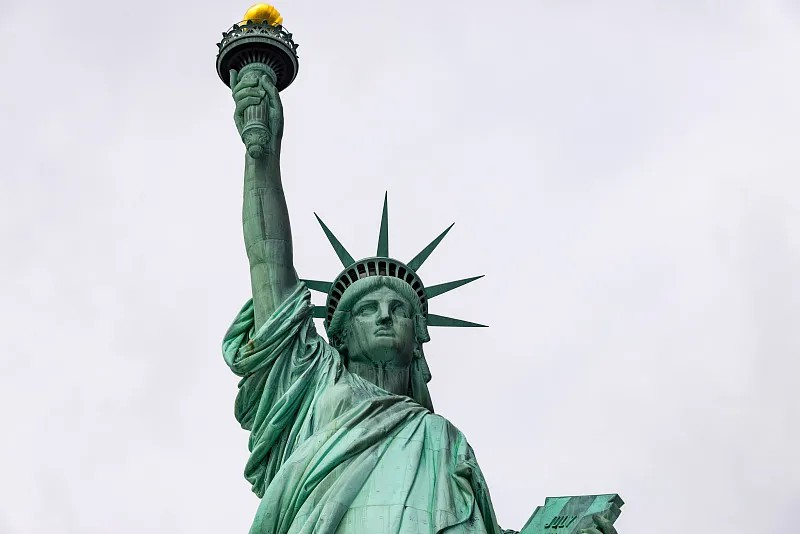SL: (215, 4, 625, 534)
